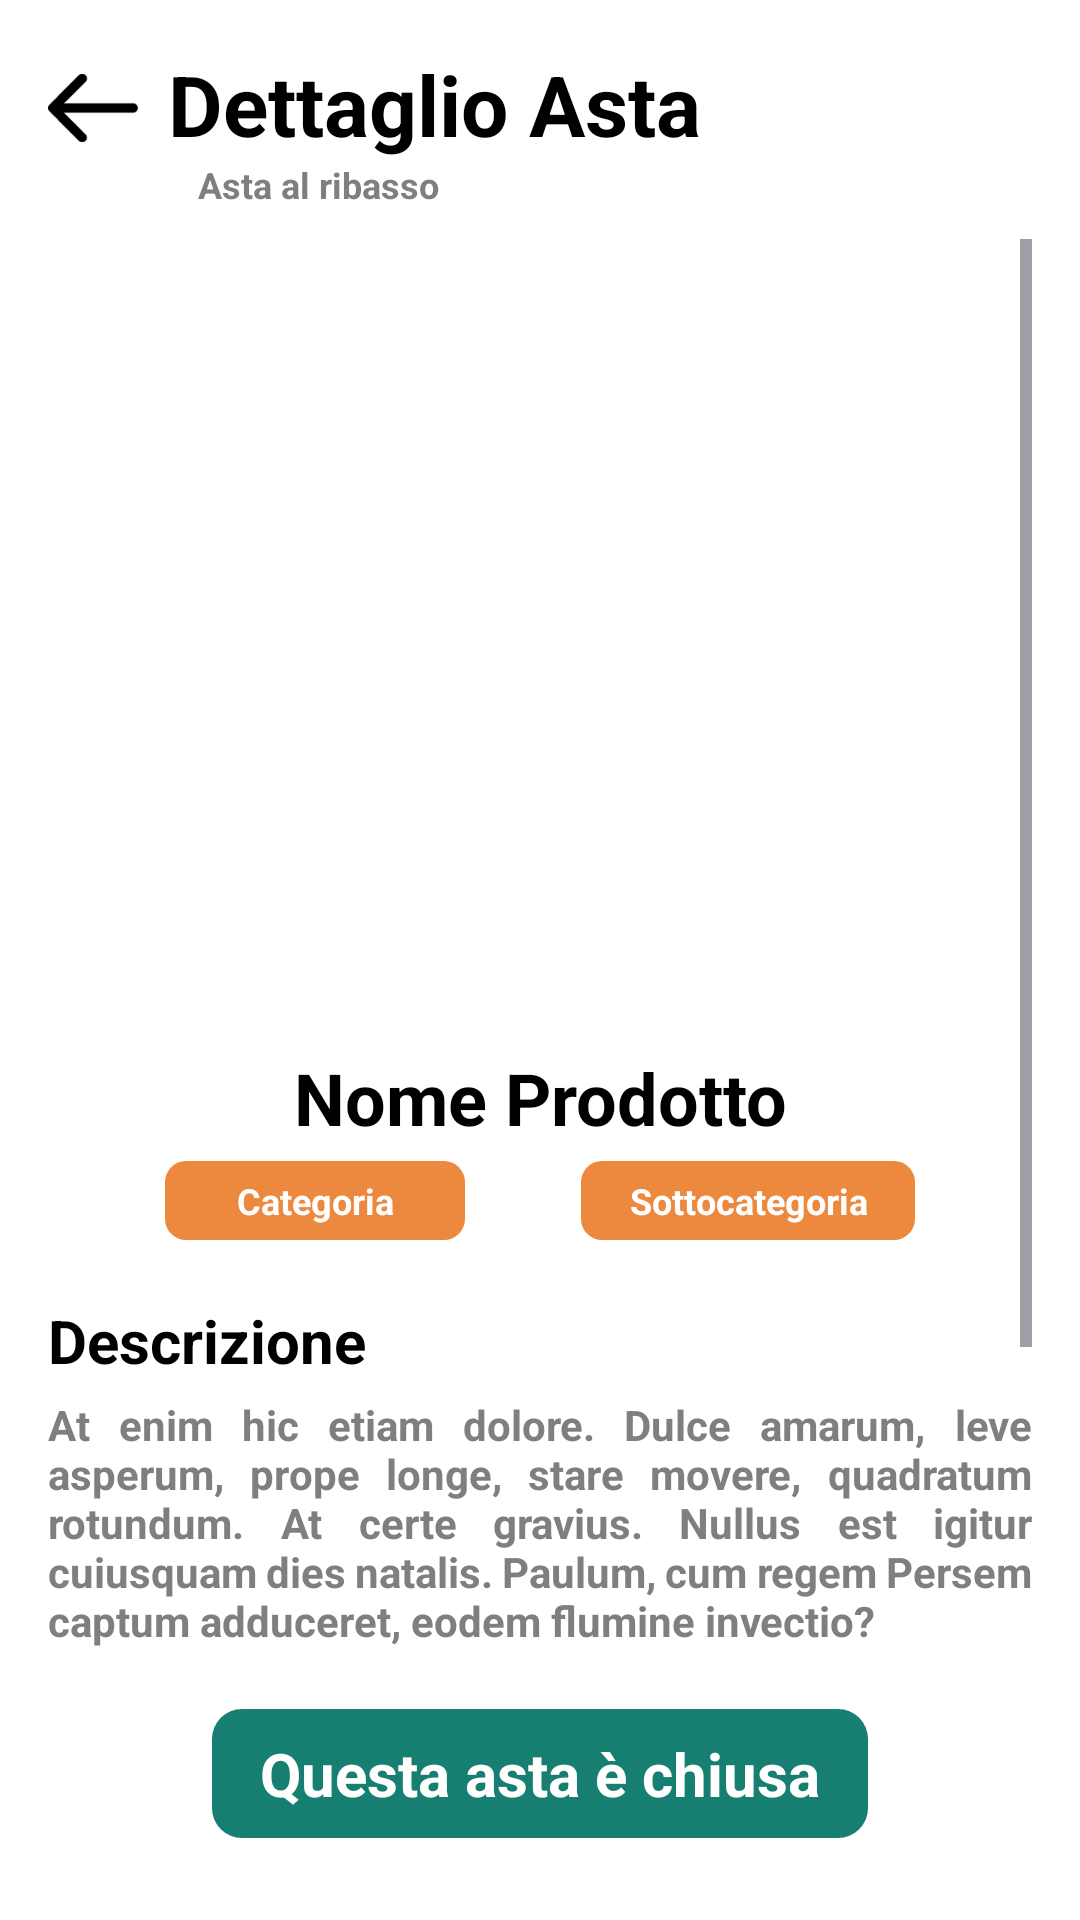

Point at icon controls on the screen. Image size 1080×1920, points as point (x, y).
freccia: point (93, 108)
